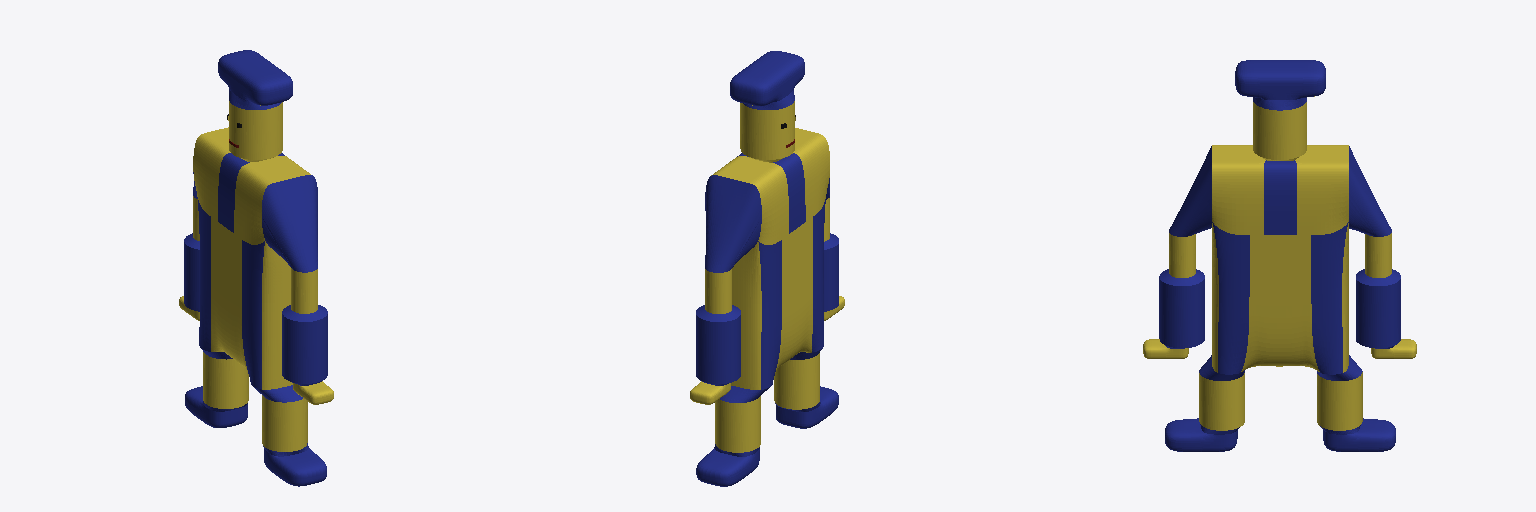
Rendered from Boss.obj.
3 views of the same model, side by side, from view 1: azimuth 30°, elevation 25°; view 2: azimuth 150°, elevation 25°; view 3: azimuth 270°, elevation 25° (orthographic).
Parts seen in each view (by area): view 1: Map1&Map2_v26_Boss_0; view 2: Map1&Map2_v26_Boss_0; view 3: Map1&Map2_v26_Boss_0.
Part boxes in pixels (bbox=[...]): Map1&Map2_v26_Boss_0: bbox=[179, 50, 333, 486]; Map1&Map2_v26_Boss_0: bbox=[690, 51, 844, 486]; Map1&Map2_v26_Boss_0: bbox=[1143, 60, 1416, 451].
Size of the model in its own units: 7.5 by 46 by 30.